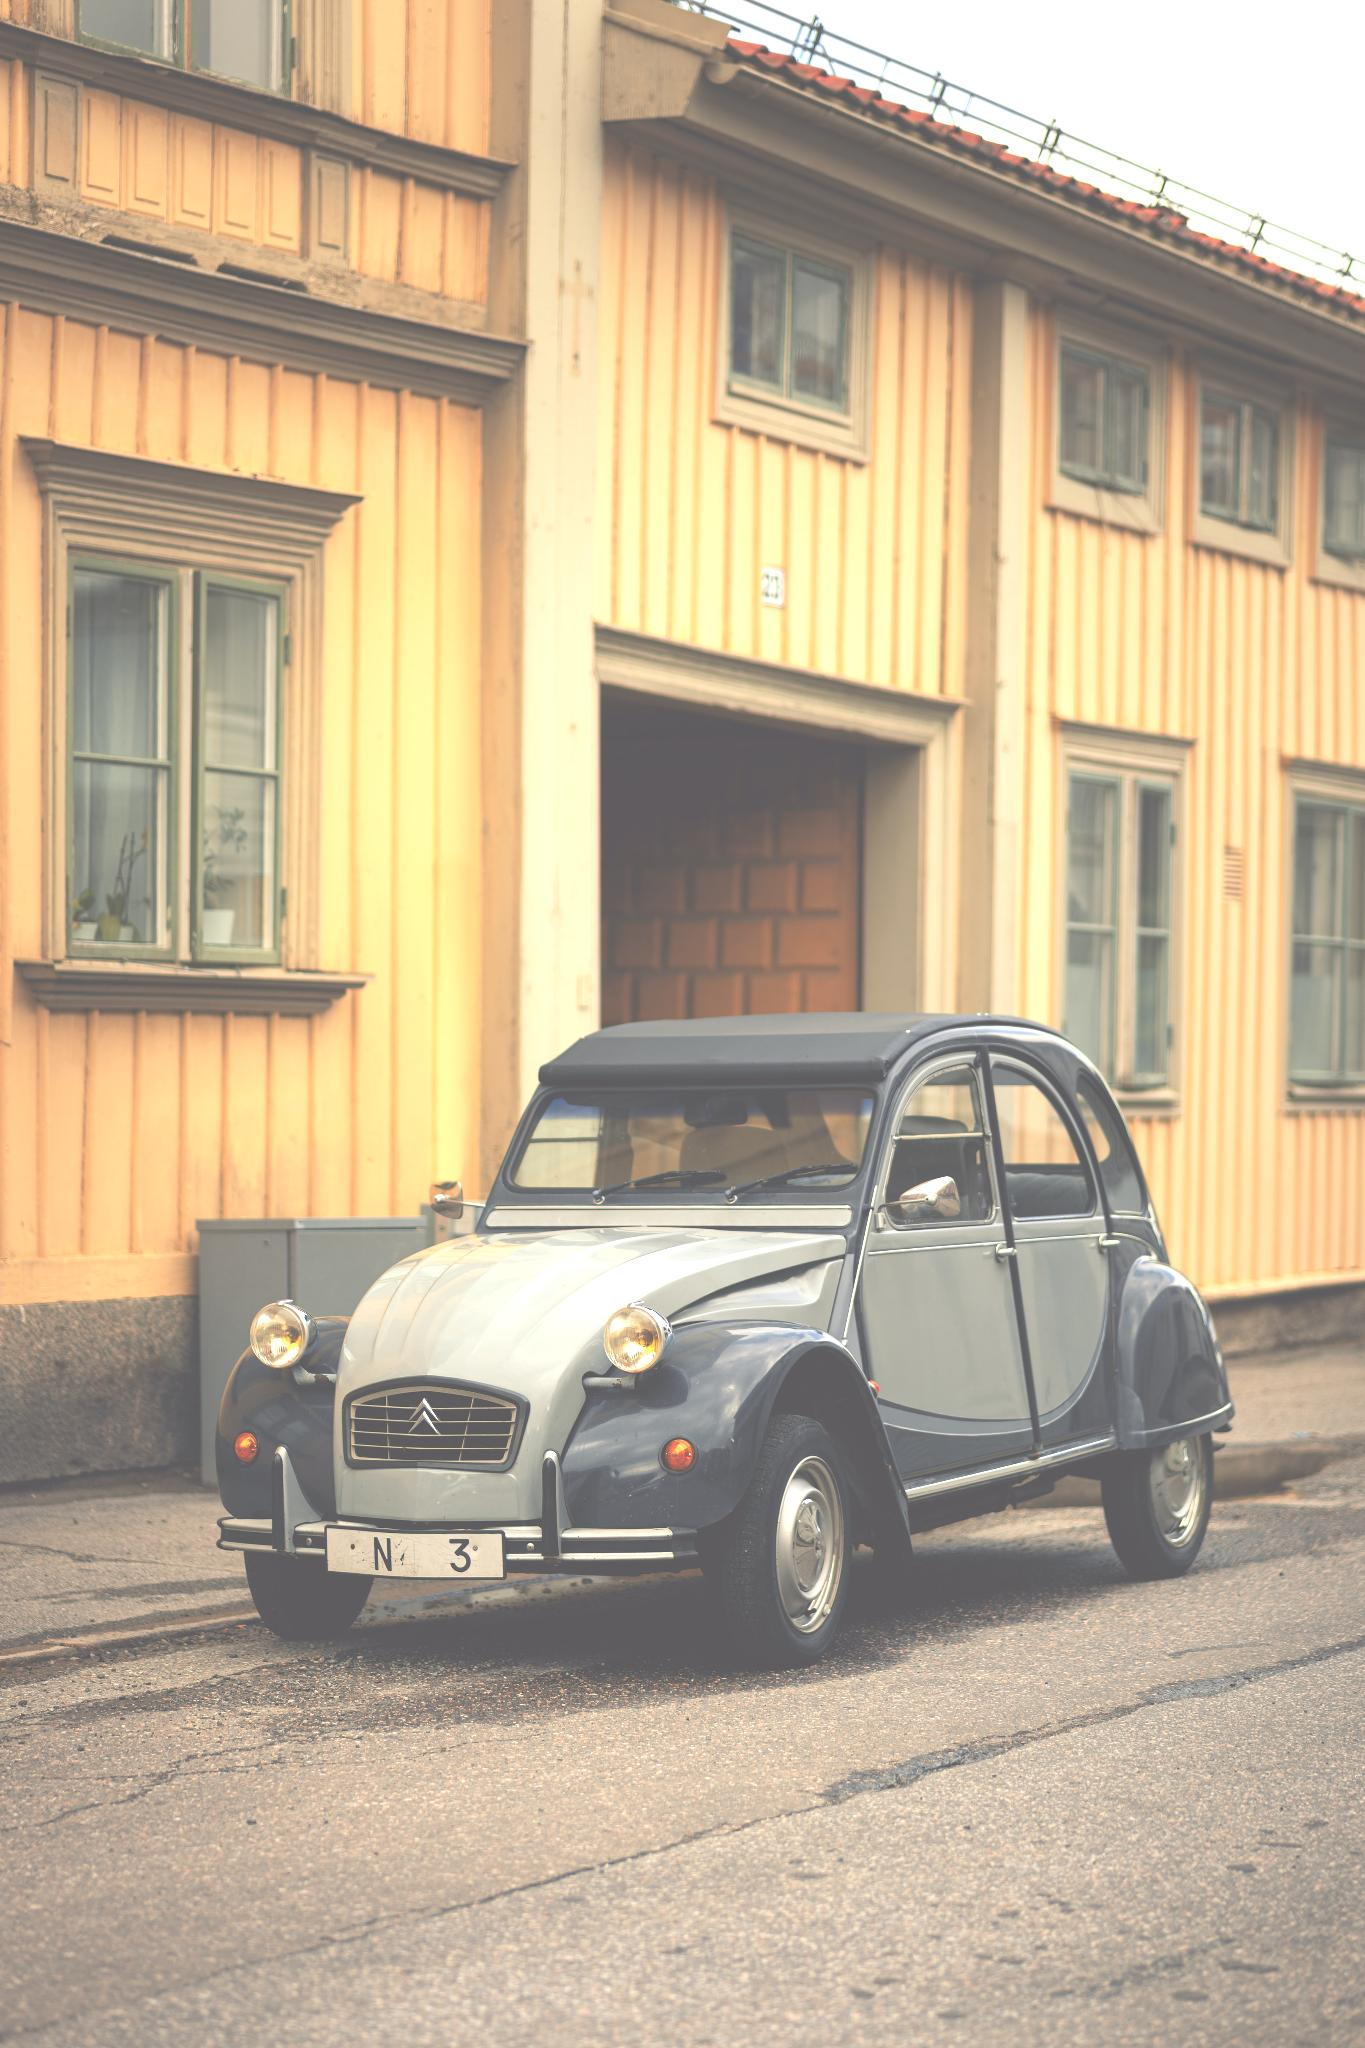Citroen: (379, 1378, 474, 1456)
